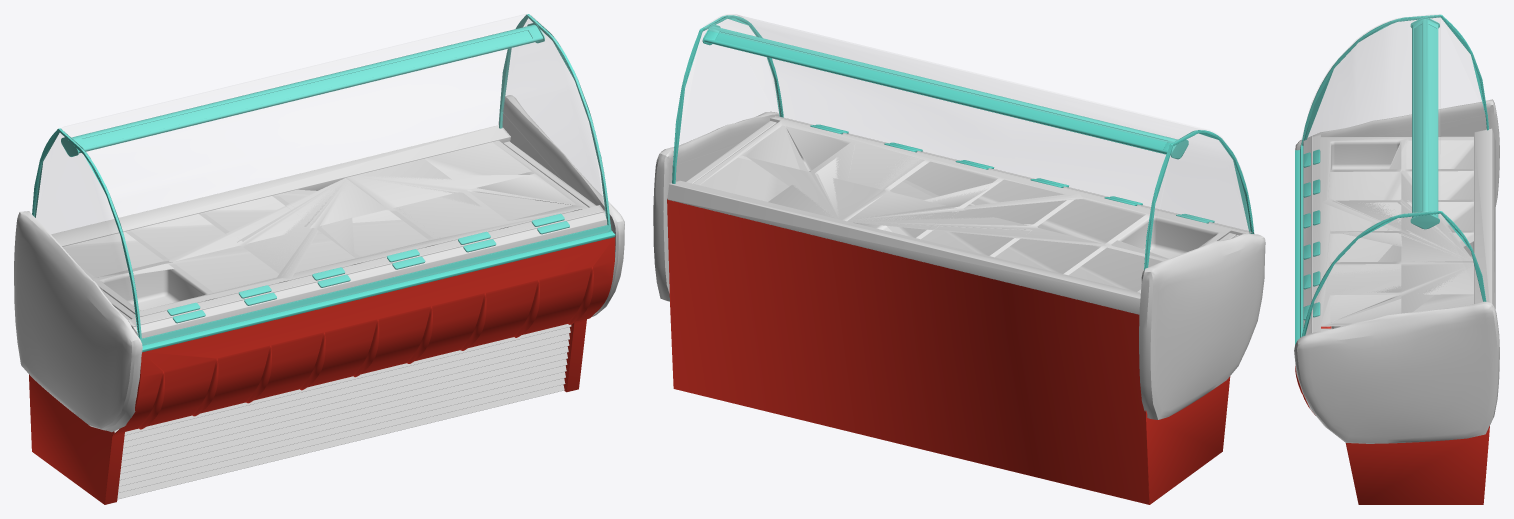
The model's file is ice-cream-freezer-1.fbx.
3 views of the same model, side by side, from view 1: azimuth 30°, elevation 25°; view 2: azimuth 150°, elevation 25°; view 3: azimuth 270°, elevation 25° (orthographic). The views are drawn at different scales.
Visible parts, largest first — view 1: icecream-freezer, right-glass, left-glass; view 2: icecream-freezer, right-glass, left-glass; view 3: icecream-freezer, left-glass, right-glass.
Boxes of the visible parts, x1,y1,x2,y2 form: icecream-freezer: [14, 14, 624, 504]; right-glass: [295, 14, 610, 287]; left-glass: [62, 71, 375, 344]; icecream-freezer: [653, 15, 1265, 504]; right-glass: [704, 14, 1016, 173]; left-glass: [938, 73, 1228, 206]; icecream-freezer: [1294, 14, 1499, 504]; left-glass: [1299, 14, 1440, 232]; right-glass: [1302, 113, 1440, 331].
Bounding box in the file's own units: 232 × 149 × 94.91.
